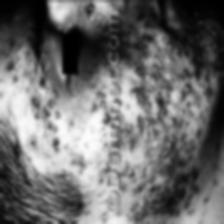Non-Cancerous Skin Condition: (121, 40, 181, 224), (188, 10, 222, 76), (31, 90, 61, 158)
